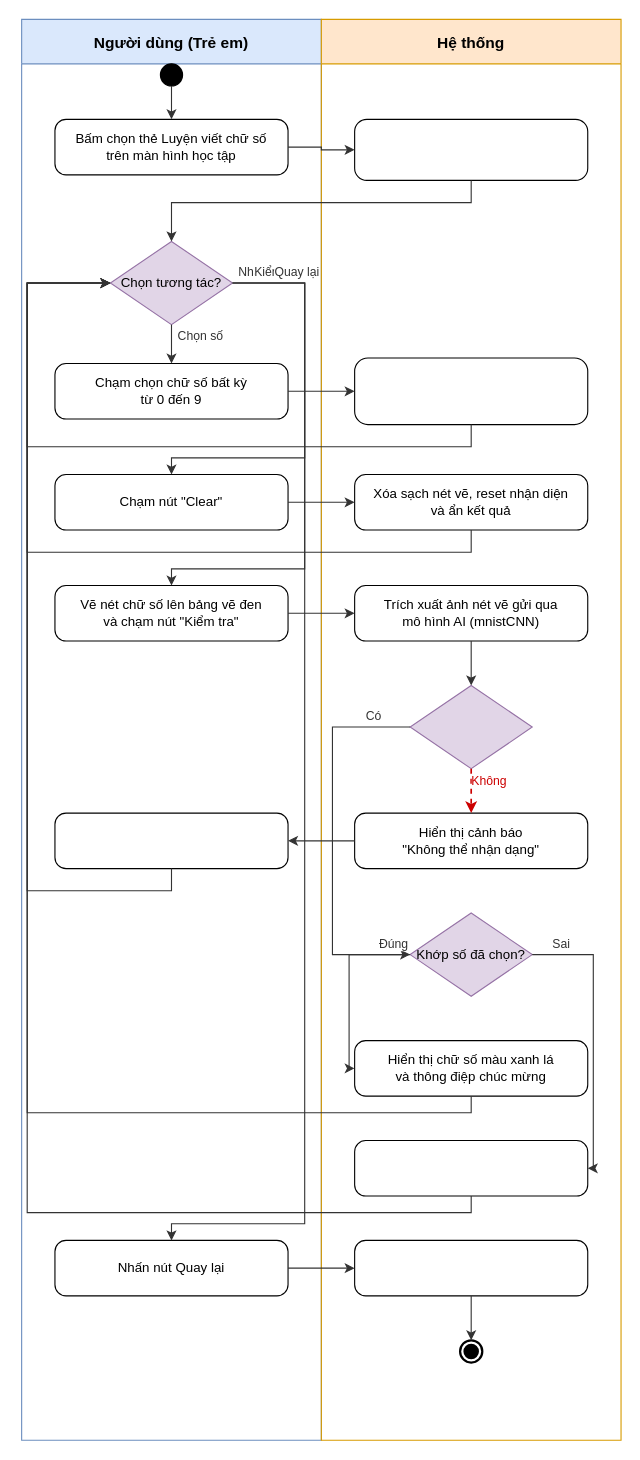
Some shapes in this 640 by 1460 pixel diagram are drawn without their labels. Each missing label, with the box of its shape:
Chọn "Viết lại" (xóa bảng vẽ) hoặc chọn "Đóng": (54, 812, 288, 869)
Cập nhật số chọn, đổi màu nút, hướng dẫn mới, xóa bảng vẽ và ẩn kết quả cũ: (354, 357, 588, 425)
Hiển thị chữ số màu đỏ và thông điệp động viên: (354, 1139, 588, 1196)
Hiển thị màn hình tập viết (nhãn hướng dẫn, bảng đen trống, nút chọn số 0-9): (354, 118, 588, 180)
Đóng giao diện tập viết số, trở về màn hình học tập chính: (354, 1239, 588, 1296)
Độ tin cậy cao?: (409, 684, 532, 769)
